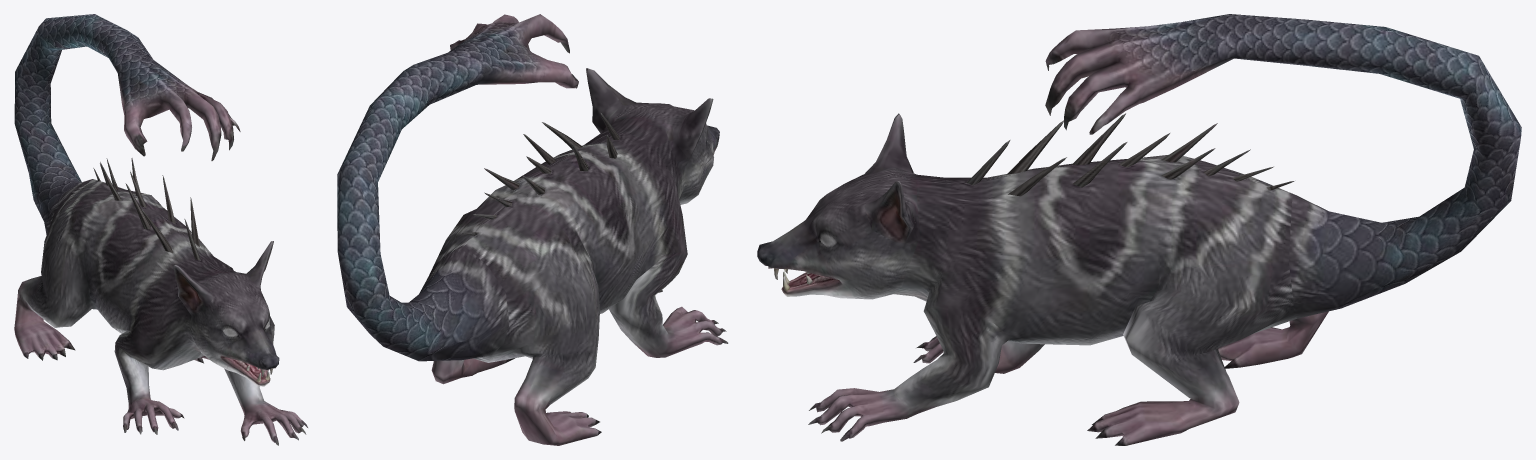
File: 232-ahuizotl.glb
The picture shows the model from 3 angles, left to right: view 1: azimuth 30°, elevation 25°; view 2: azimuth 150°, elevation 25°; view 3: azimuth 270°, elevation 25°; orthographic projection. The views are drawn at different scales.
Bounding box in the file's own units: 1.28 × 2.12 × 3.63.
Materials: 1 (1 with a texture image).
